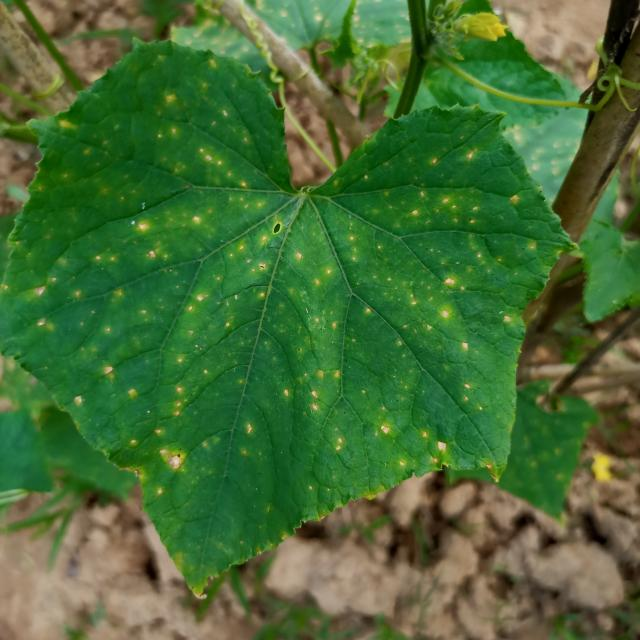disease_cucumber: (43, 61, 505, 533)
